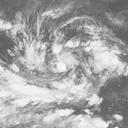cyclone: (31, 20, 108, 103)
